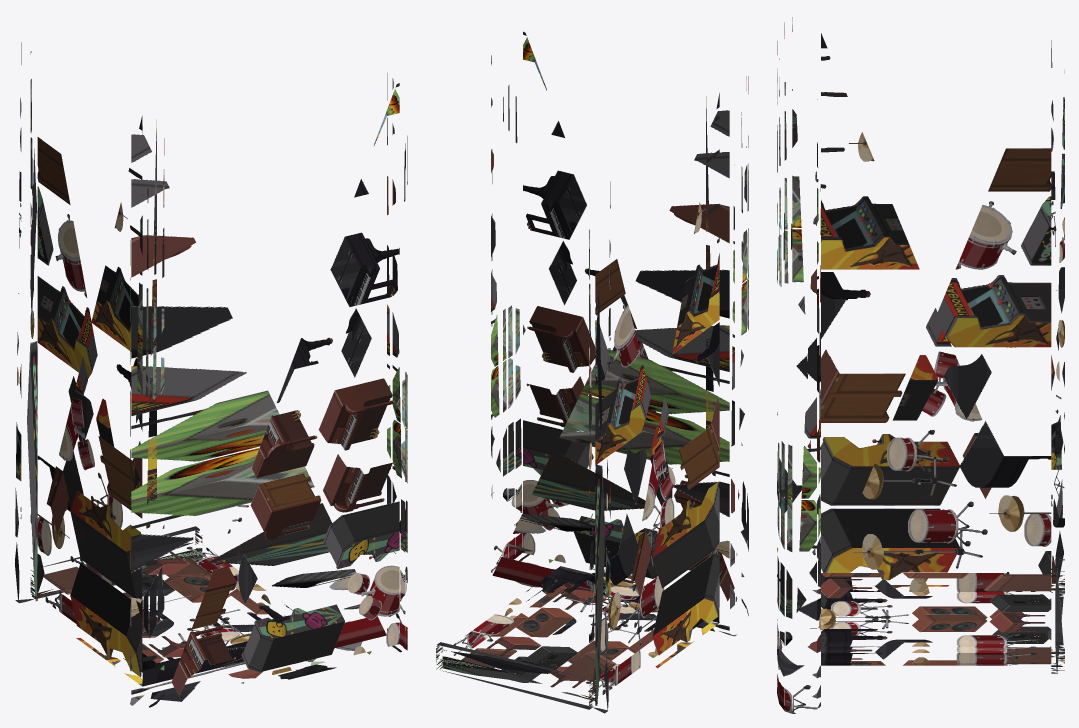
3 renders of one model, left to right at view 1: azimuth 30°, elevation 25°; view 2: azimuth 150°, elevation 25°; view 3: azimuth 270°, elevation 25°, orthographic. The views are drawn at different scales.
Bounding box in the file's own units: 0.866 × 1.88 × 0.85.
